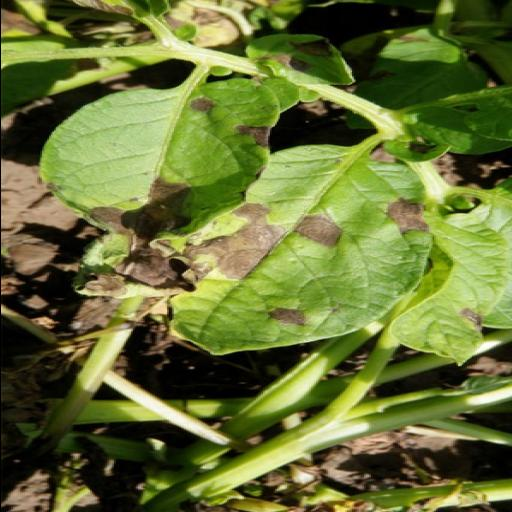Early Blight: (164, 142, 442, 356), (31, 72, 284, 260)
